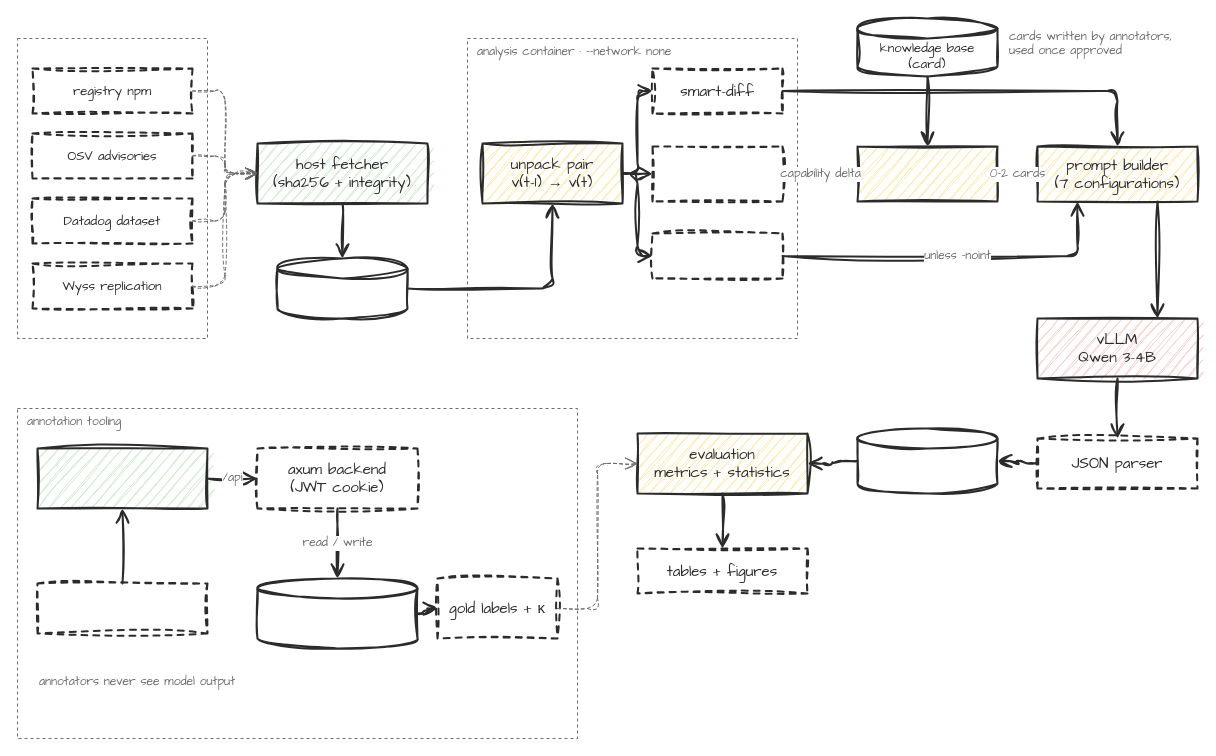
Image size: 1216x756. Some labels were removed from this diagram. The shapes that lost their labels are listed below. From the top down, each one's box as (x1, y1, x2, y2) in pixels, then its label:
(16, 38, 208, 338): data sources
(651, 145, 783, 202): capability extractor
(856, 145, 998, 202): Jaccard retrieval
(651, 232, 783, 279): intent profile
(276, 257, 408, 319): data/tarballs
(36, 447, 208, 509): React UI audit · KB cards · HN
(856, 427, 998, 494): results.jsonl
(36, 582, 208, 634): annotators A / B
(256, 577, 418, 649): pairs · decisions · cards
